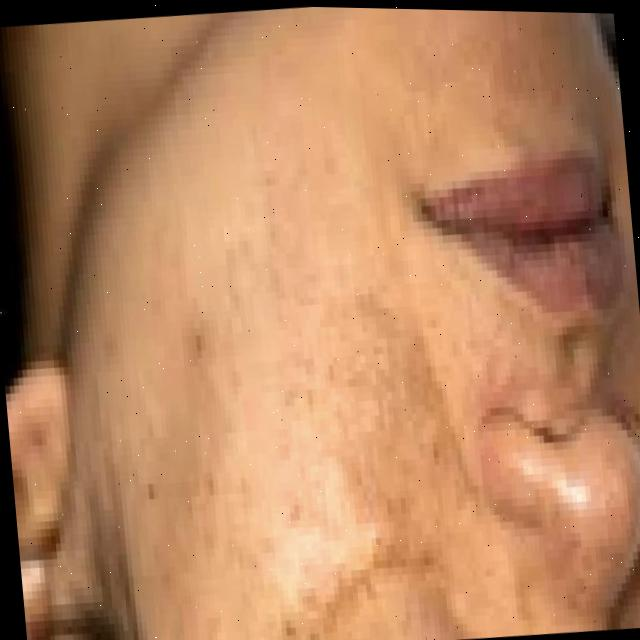Melasma: (109, 277, 483, 640)
